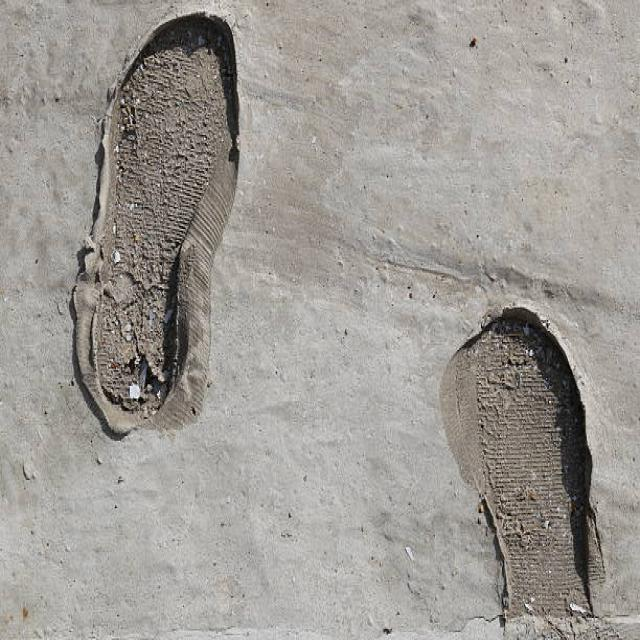human_foot_print: (67, 10, 244, 439)
